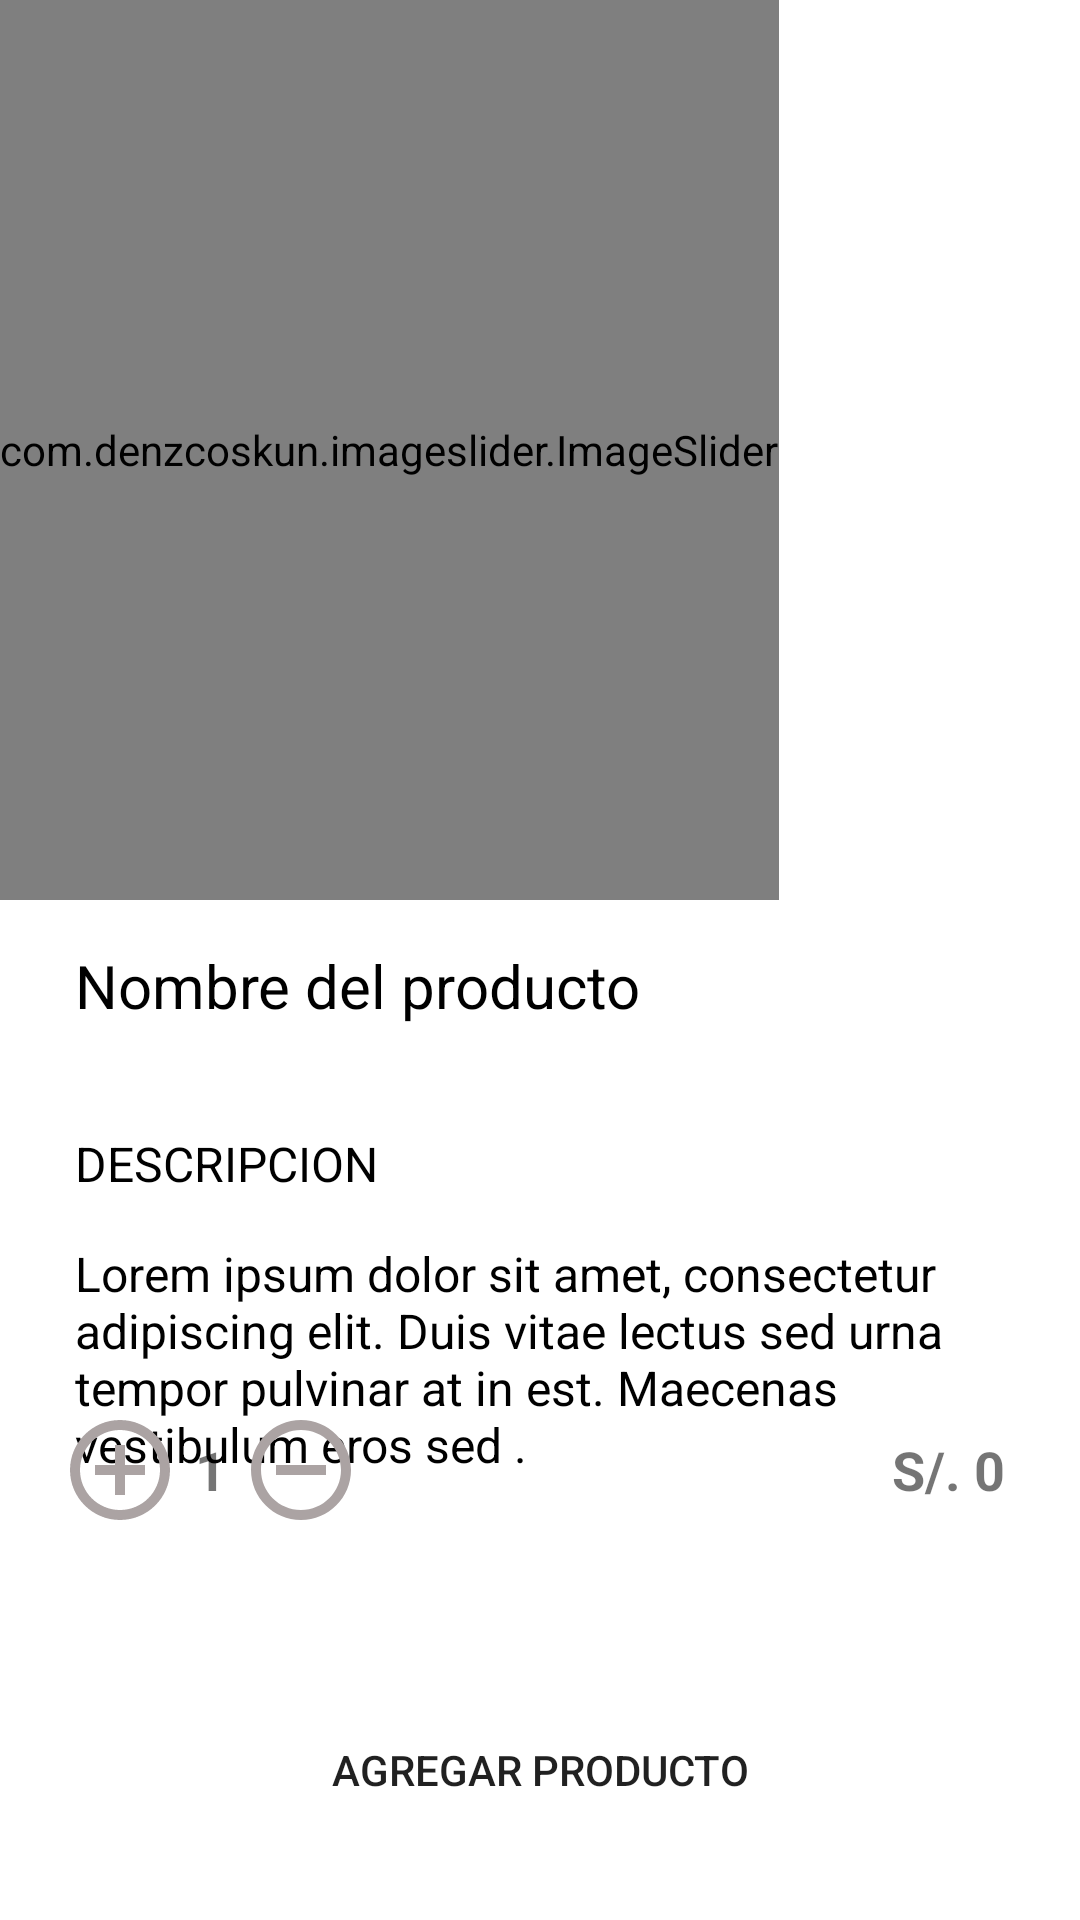

Icon bounding boxes for this 1080 x 1920 phone screenshot, format (x1, y1, x2, y2):
add: (70, 1420, 173, 1520)
remove: (244, 1420, 361, 1520)
